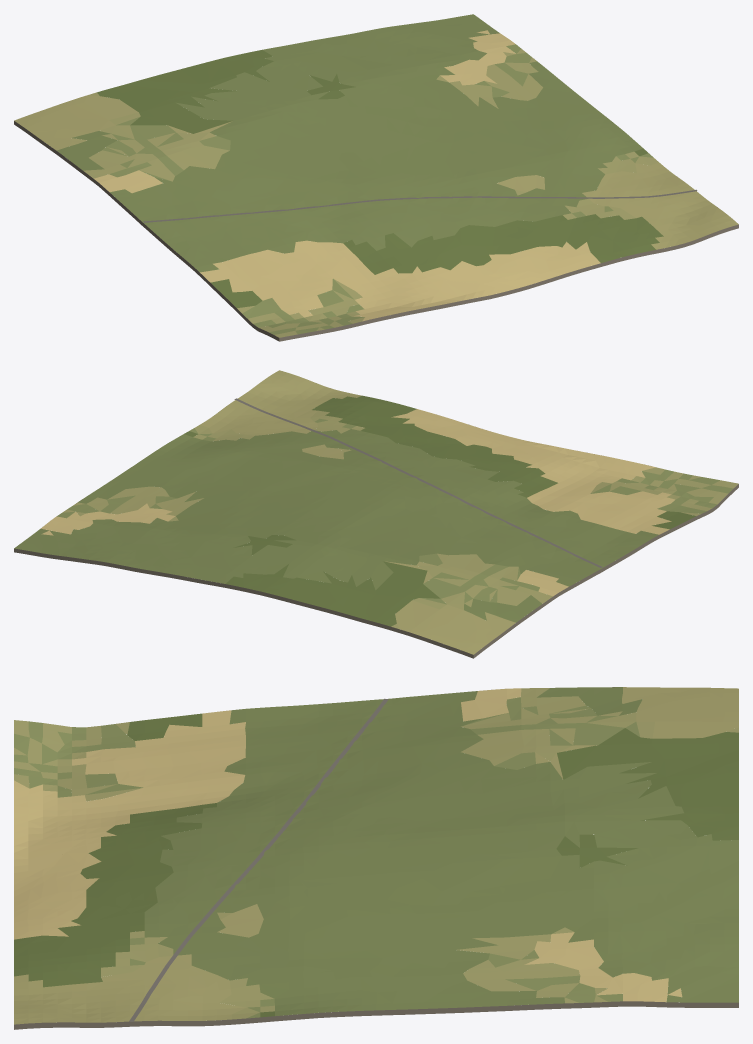
The model's file is parca_+3_-2-uzak.glb.
3 views of the same model, one above another, from view 1: azimuth 30°, elevation 25°; view 2: azimuth 150°, elevation 25°; view 3: azimuth 270°, elevation 25° (orthographic). The views are drawn at different scales.
Parts seen in each view (by area): view 1: parca_+3_-2_arazi_uzak, parca_+3_-2_yollar_uzak; view 2: parca_+3_-2_arazi_uzak, parca_+3_-2_yollar_uzak; view 3: parca_+3_-2_arazi_uzak, parca_+3_-2_yollar_uzak.
Part boxes in pixels (<box>): parca_+3_-2_arazi_uzak: <box>14,14,738,341</box>; parca_+3_-2_yollar_uzak: <box>143,189,697,222</box>; parca_+3_-2_arazi_uzak: <box>14,370,738,658</box>; parca_+3_-2_yollar_uzak: <box>234,398,602,567</box>; parca_+3_-2_arazi_uzak: <box>14,687,738,1029</box>; parca_+3_-2_yollar_uzak: <box>129,698,388,1021</box>.
Bounding box in the file's own units: 1003 × 98.76 × 1000.
